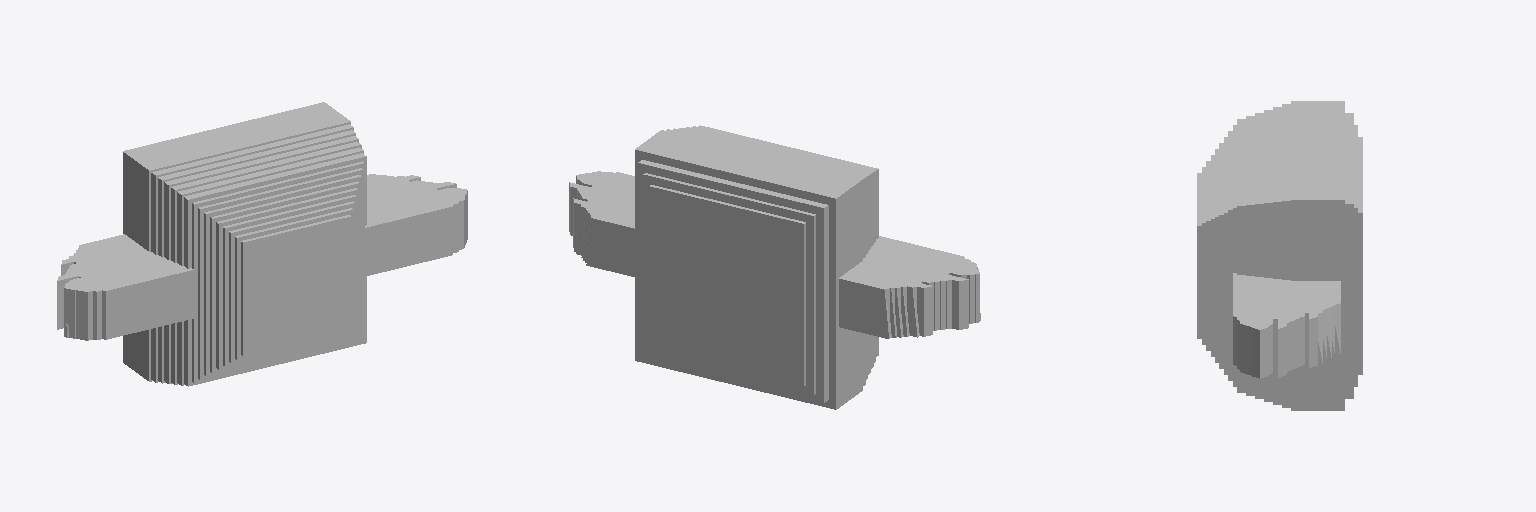
Rendered from enemy2_4.obj.
The picture shows the model from 3 angles: view 1: azimuth 30°, elevation 25°; view 2: azimuth 150°, elevation 25°; view 3: azimuth 270°, elevation 25°; orthographic projection.
Parts seen in each view (by area): view 1: obj1; view 2: obj1; view 3: obj1.
Boxes of the visible parts, <box> form: obj1: <box>57,102,467,386</box>; obj1: <box>569,125,980,409</box>; obj1: <box>1197,101,1362,410</box>.
Bounding box in the file's own units: 26 × 13 × 9.25.